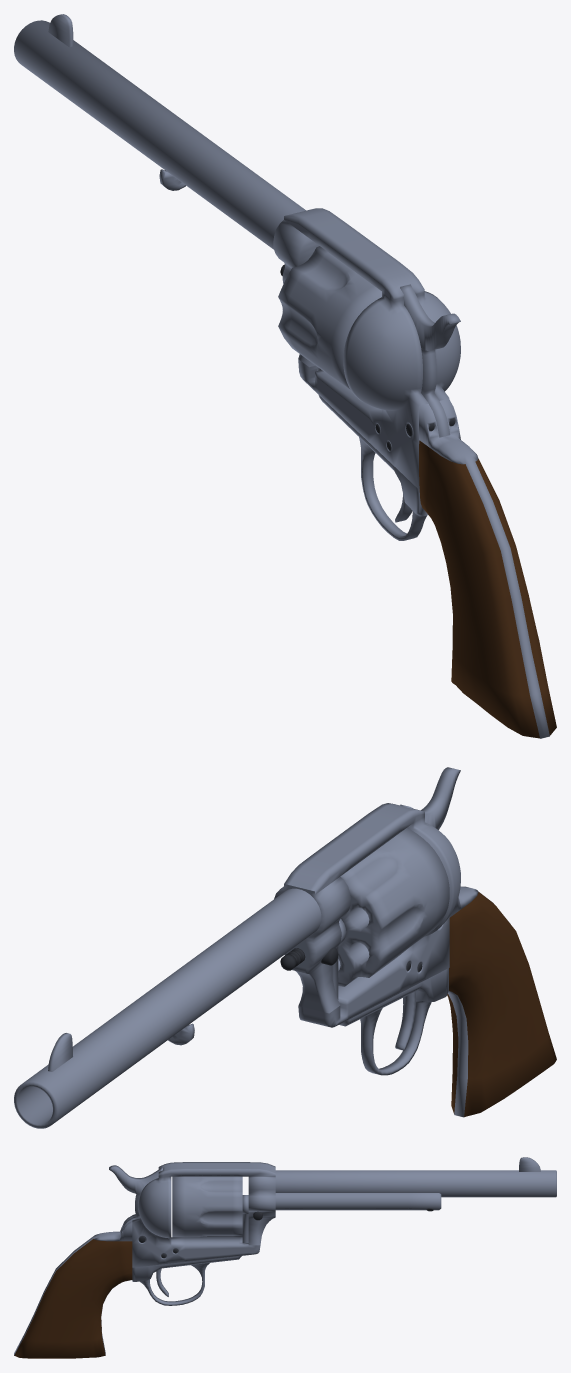
File: 1873_Cattleman_2_Low.fbx
3 renders of one model, top to bottom at view 1: azimuth 30°, elevation 25°; view 2: azimuth 150°, elevation 25°; view 3: azimuth 270°, elevation 25°, orthographic. The views are drawn at different scales.
Parts seen in each view (by area): view 1: Handle, Frame_Base, Main Barrel, Cylinder, Trigger_Base, Hammer, Frame_Bake_Fix; view 2: Main Barrel, Handle, Cylinder, Frame_Base, Trigger_Base, Frame_Bake_Fix, Hammer, Trigger, Iron_Sight; view 3: Handle, Main Barrel, Frame_Base, Cylinder, Secondary_Barrel, Trigger_Base, Frame_Bake_Fix, Hammer, Cylinder_Swivel, Iron_Sight.
Part boxes in pixels (x1,y1,x2,y2): Handle: (419,440,556,738); Frame_Base: (284,208,460,489); Main Barrel: (14,20,305,249); Cylinder: (278,246,381,389); Trigger_Base: (318,395,549,738); Hammer: (400,284,460,437); Frame_Bake_Fix: (273,220,319,367); Main Barrel: (14,888,321,1128); Handle: (447,892,556,1116); Cylinder: (338,828,449,986); Frame_Base: (284,803,460,1027); Trigger_Base: (339,886,510,1117); Frame_Bake_Fix: (274,876,350,1013); Hammer: (400,767,460,829); Trigger: (395,991,415,1050); Iron_Sight: (48,1033,72,1071); Handle: (14,1239,132,1358); Main Barrel: (275,1170,556,1197); Frame_Base: (132,1162,275,1267); Cylinder: (172,1176,242,1237); Secondary_Barrel: (275,1193,441,1210); Trigger_Base: (14,1216,241,1355); Frame_Bake_Fix: (248,1176,275,1245); Hammer: (109,1165,162,1234); Cylinder_Swivel: (242,1195,248,1243); Iron_Sight: (519,1157,540,1171).
Bounding box in the file's own units: 6.07 × 20 × 49.34.
